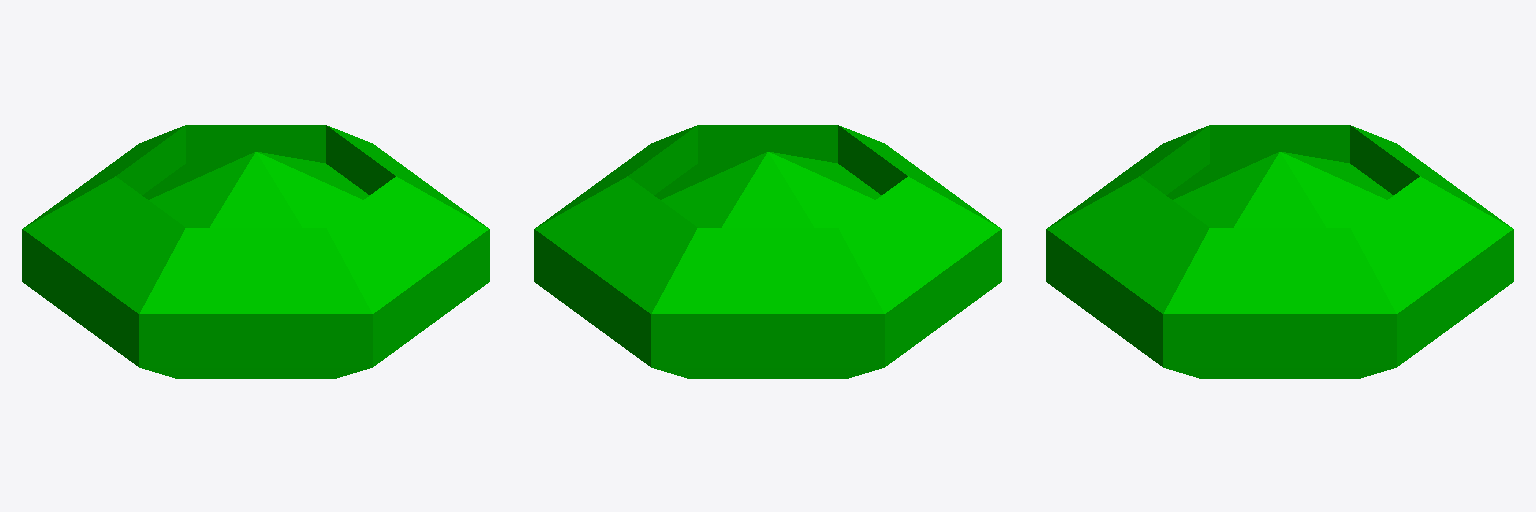
File: 4Disc.obj
3 renders of one model, left to right at view 1: azimuth 30°, elevation 25°; view 2: azimuth 150°, elevation 25°; view 3: azimuth 270°, elevation 25°, orthographic.
Parts seen in each view (by area): view 1: 4Disc; view 2: 4Disc; view 3: 4Disc.
Part boxes in pixels (left/top/right/bottom): 4Disc: left=22, top=125, right=489, bottom=378; 4Disc: left=534, top=125, right=1001, bottom=378; 4Disc: left=1046, top=125, right=1513, bottom=378.
Size of the model in its own units: 2.86 by 1.63 by 3.3.